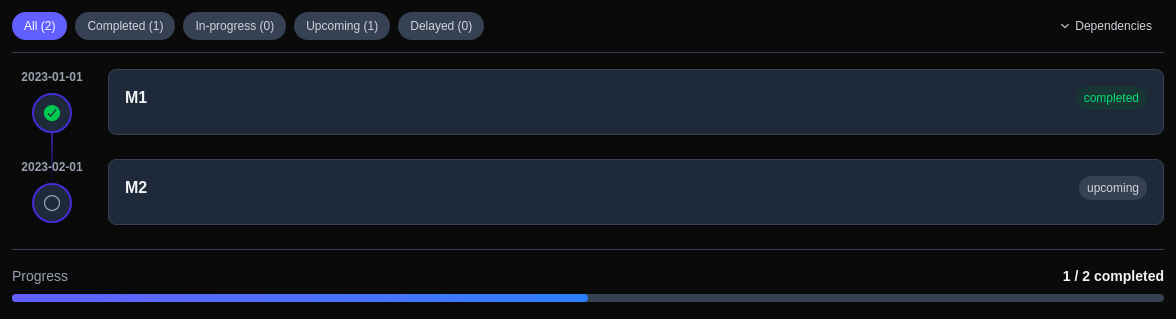
Test: Visualization Widgets › InteractiveTimeline › filters by status
Click the button "Completed (1)" at (125, 26), box [75,12,176,40]
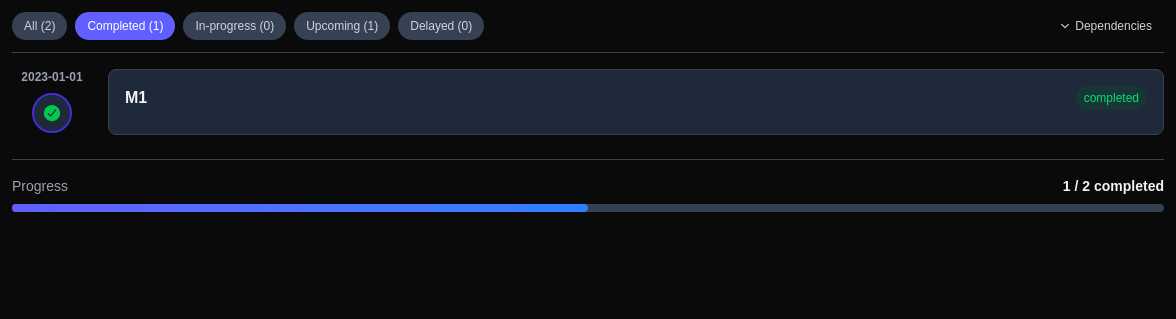
Expected: the heading "M1" is shown, [125,86,147,110]
Result: the heading "M2" is gone
